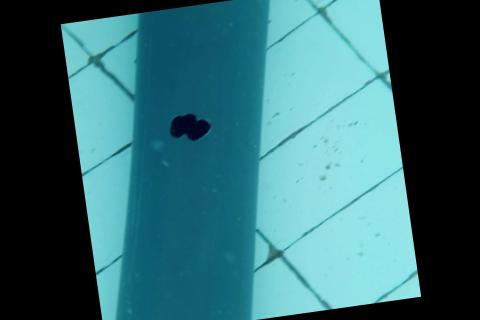kebocoran: (164, 108, 214, 145)
